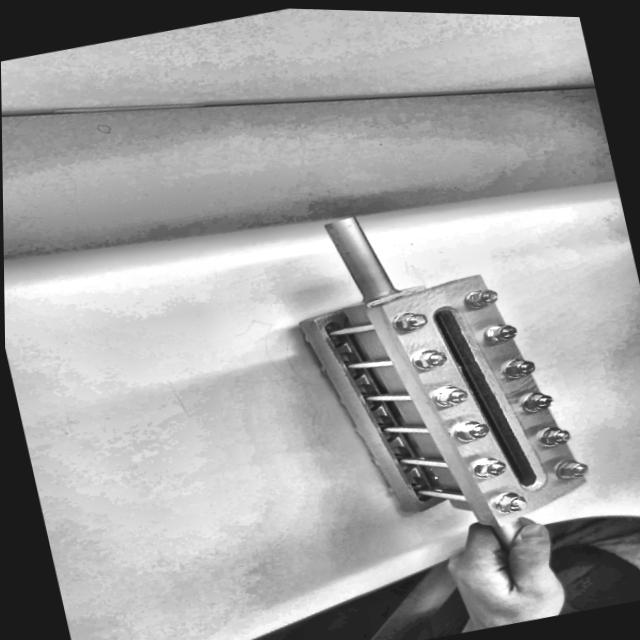ShuiWeiQi_12: (261, 162, 630, 558)
